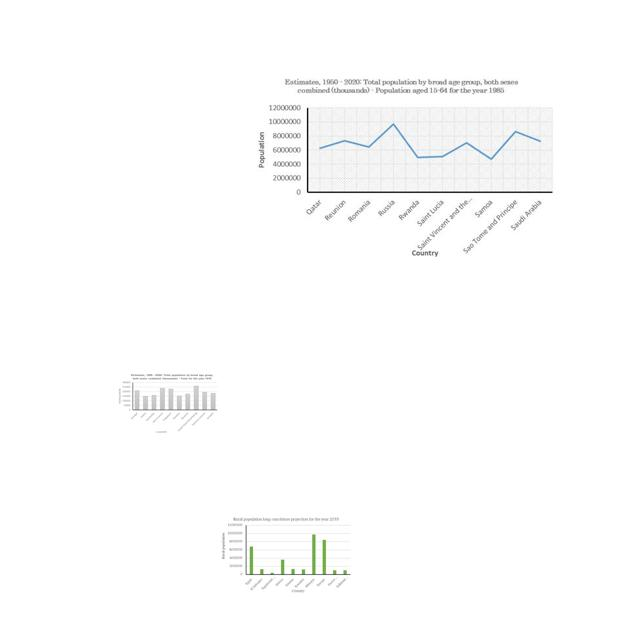Graph: (252, 73, 559, 257), (220, 515, 352, 594), (116, 372, 219, 434)
